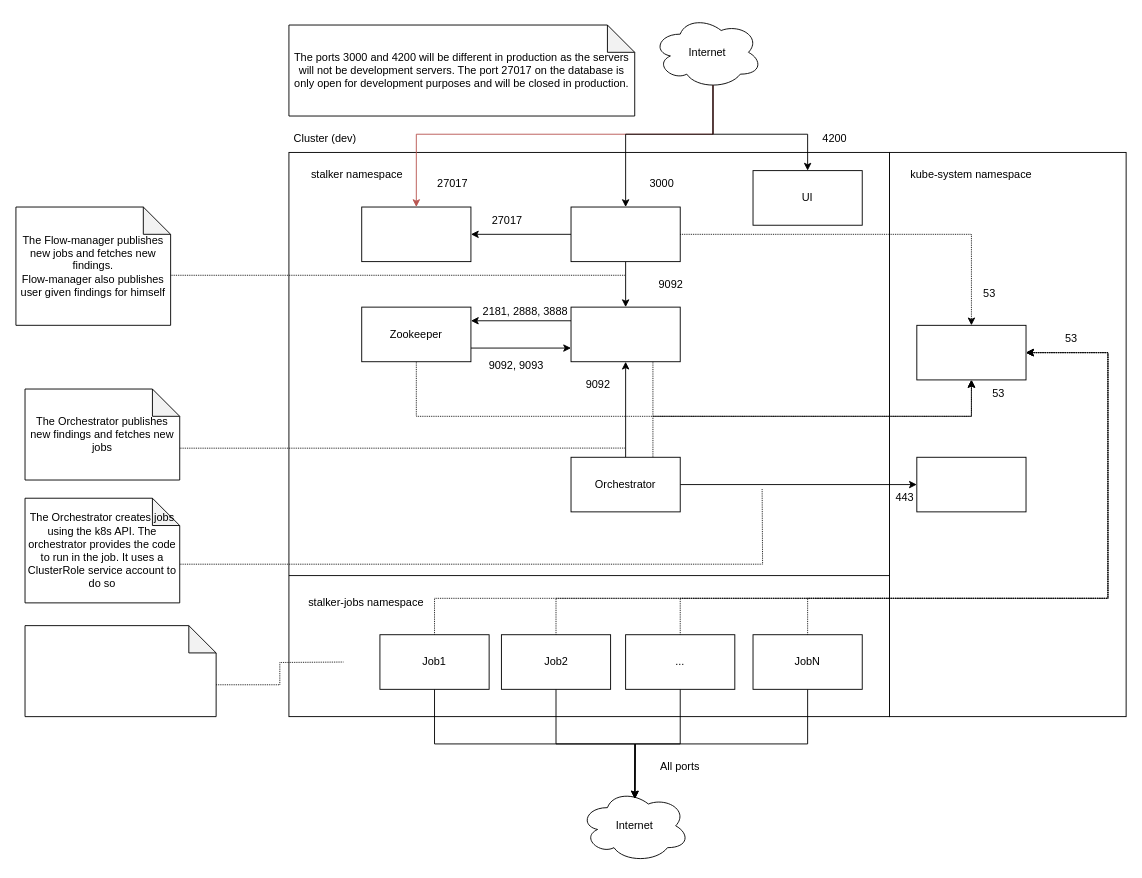
The diagram is 1142 pixels wide and 878 high, and some of its shapes have lost their labels. Here are the shapes that lost their labels. From the top down, the centre of each, then its label:
At point (416, 234): "Database Mongo".
At point (625, 234): "flow-manager".
At point (625, 334): "Kafka".
At point (971, 352): "K8s DNS".
At point (971, 484): "K8s API".
At point (120, 671): "The jobs are spawned by k8s, following the information given by the Orchestrator".
